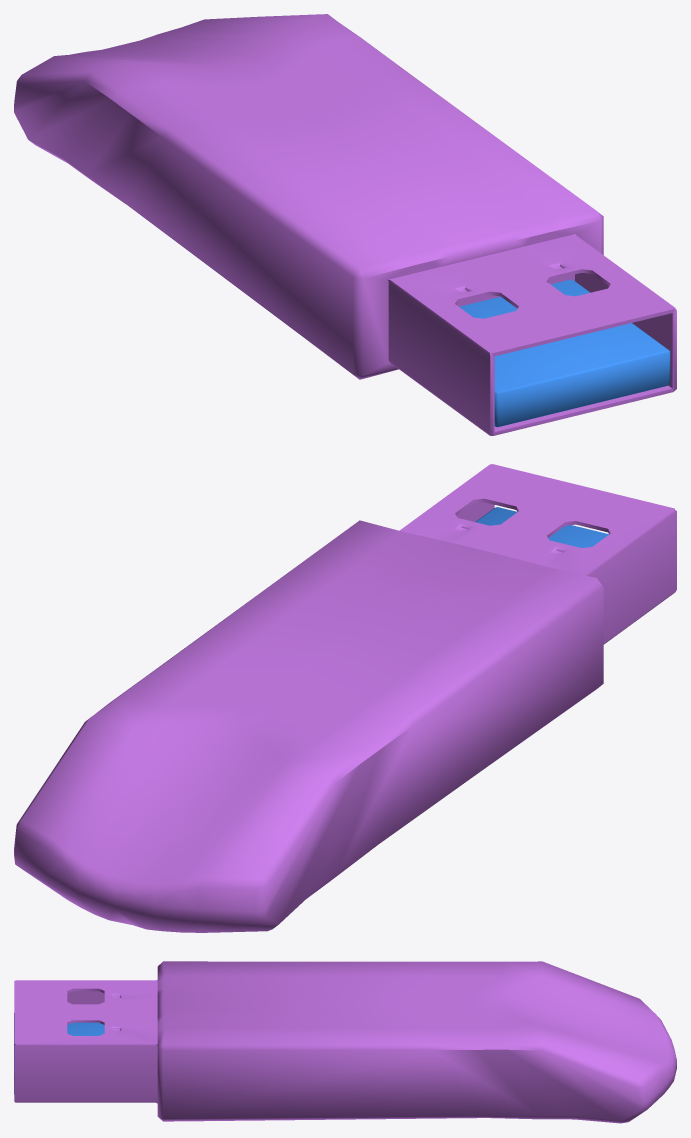
3 views of the same model, one above another, from view 1: azimuth 30°, elevation 25°; view 2: azimuth 150°, elevation 25°; view 3: azimuth 270°, elevation 25° (orthographic). The views are drawn at different scales.
Parts seen in each view (by area): view 1: pCube3_lambert1_0, pCube4_lambert1_0; view 2: pCube3_lambert1_0, pCube4_lambert1_0; view 3: pCube3_lambert1_0, pCube4_lambert1_0.
Part boxes in pixels (x1,y1,x2,y2): pCube3_lambert1_0: (14,14,676,435); pCube4_lambert1_0: (459,279,670,427); pCube3_lambert1_0: (14,464,676,932); pCube4_lambert1_0: (475,507,608,547); pCube3_lambert1_0: (14,961,676,1123); pCube4_lambert1_0: (14,1013,104,1094).
Bounding box in the file's own units: 0.3095 × 0.1442 × 1.
